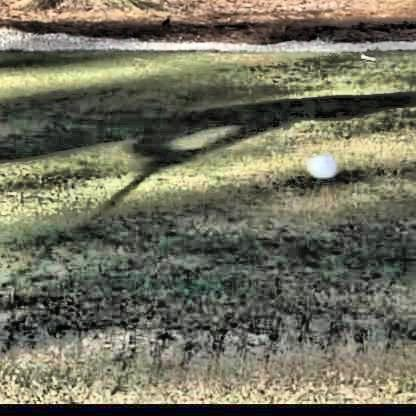golfball: (305, 153, 334, 177)
